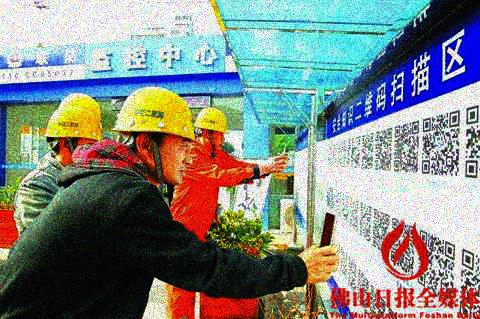helmet: (112, 84, 195, 185), (44, 106, 103, 165), (194, 105, 230, 149)
